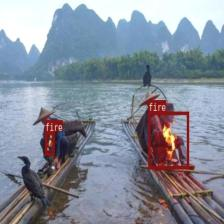fire: (148, 111, 189, 168), (44, 131, 54, 155)
